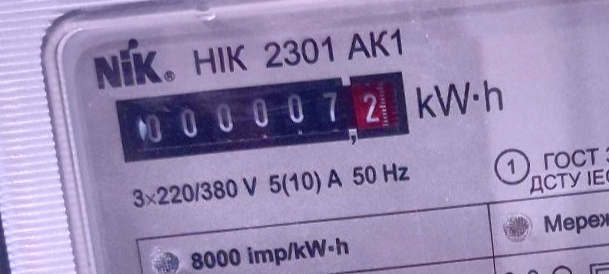0: (212, 97, 238, 137), (142, 109, 167, 145), (178, 103, 202, 140), (284, 89, 308, 126), (250, 94, 273, 132)
2: (360, 89, 384, 126)
7: (320, 86, 344, 126)
screen: (110, 63, 420, 170)
